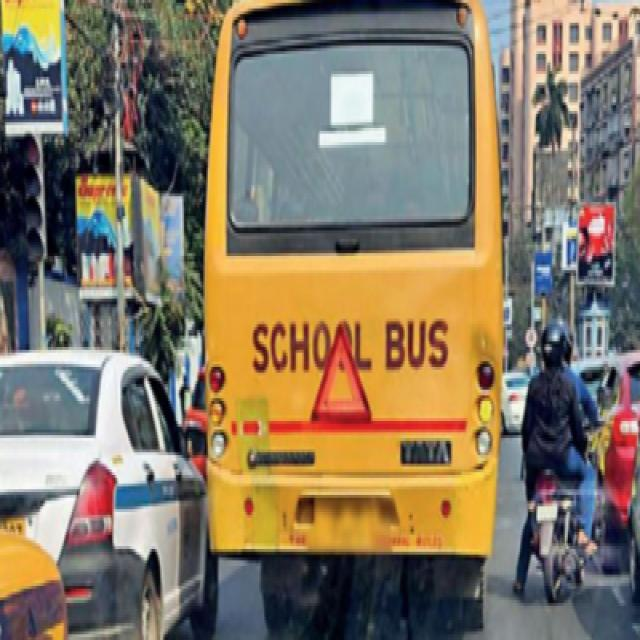bus: (200, 0, 506, 563)
car: (0, 350, 219, 640), (581, 353, 640, 543)
motorcycle: (515, 321, 600, 609)
